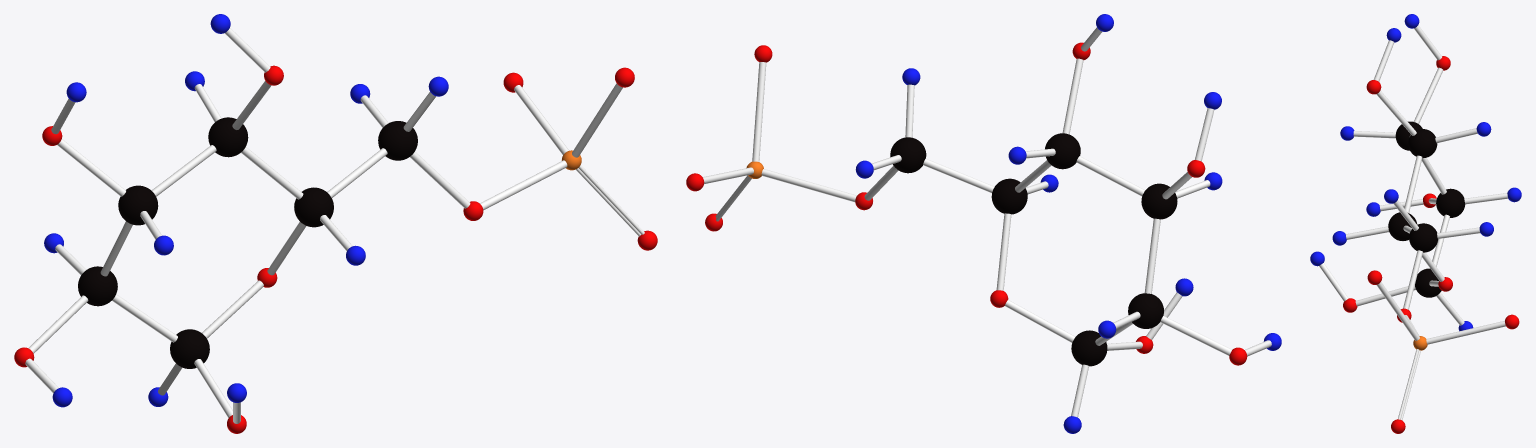
The model's file is glucose 6-phosphate_color.fbx.
3 views of the same model, side by side, from view 1: azimuth 30°, elevation 25°; view 2: azimuth 150°, elevation 25°; view 3: azimuth 270°, elevation 25° (orthographic). The views are drawn at different scales.
Visible parts, largest first — view 1: Atom6_Clone___4_, Atom6_Clone___5_, Atom6_Clone___2_, Atom6_Clone___3_, Atom6_Clone_, Atom6_Clone___1_, Bond1_Clone_, Bond1_Clone___2_, Bond1_Clone___7_, Bond1_Clone___1_, Bond1_Clone___4_, Bond1_Clone___16_ (+5 smaller); view 2: Atom6_Clone___2_, Atom6_Clone___5_, Atom6_Clone_, Atom6_Clone___4_, Atom6_Clone___3_, Atom6_Clone___1_, Bond1_Clone___2_, Bond1_Clone_, Bond1_Clone___3_, Bond1_Clone___4_, Bond1_Clone___5_, Bond1_Clone___19_ (+3 smaller); view 3: Atom6_Clone_, Atom6_Clone___5_, Atom6_Clone___3_, Atom6_Clone___4_, Bond1_Clone___1_, Atom6_Clone___2_, Bond1_Clone___2_, Bond1_Clone___13_, Bond1_Clone___7_, Bond1_Clone___17_, Atom6_Clone___1_, Bond1_Clone___5_ (+15 smaller).
Boxes of the visible parts, bbox=[...] form: Atom6_Clone___4_: bbox=[170, 329, 209, 368]; Atom6_Clone___5_: bbox=[378, 121, 417, 160]; Atom6_Clone___2_: bbox=[294, 187, 333, 227]; Atom6_Clone___3_: bbox=[78, 266, 117, 306]; Atom6_Clone_: bbox=[208, 117, 248, 157]; Atom6_Clone___1_: bbox=[118, 185, 158, 225]; Bond1_Clone_: bbox=[480, 160, 567, 210]; Bond1_Clone___2_: bbox=[572, 83, 622, 157]; Bond1_Clone___7_: bbox=[57, 139, 125, 196]; Bond1_Clone___1_: bbox=[514, 85, 568, 154]; Bond1_Clone___4_: bbox=[202, 280, 263, 338]; Bond1_Clone___16_: bbox=[151, 145, 216, 196]; Atom6_Clone___2_: bbox=[991, 178, 1027, 214]; Atom6_Clone___5_: bbox=[890, 137, 926, 173]; Atom6_Clone_: bbox=[1045, 133, 1080, 169]; Atom6_Clone___4_: bbox=[1071, 330, 1107, 366]; Atom6_Clone___3_: bbox=[1128, 293, 1163, 328]; Atom6_Clone___1_: bbox=[1141, 183, 1177, 219]; Bond1_Clone___2_: bbox=[752, 62, 766, 161]; Bond1_Clone_: bbox=[761, 169, 856, 202]; Bond1_Clone___3_: bbox=[996, 213, 1011, 290]; Bond1_Clone___4_: bbox=[1005, 300, 1075, 342]; Bond1_Clone___5_: bbox=[1062, 58, 1083, 134]; Bond1_Clone___19_: bbox=[1144, 218, 1160, 293]; Atom6_Clone_: bbox=[1408, 129, 1437, 158]; Atom6_Clone___5_: bbox=[1409, 223, 1437, 252]; Atom6_Clone___3_: bbox=[1436, 188, 1465, 217]; Atom6_Clone___4_: bbox=[1415, 268, 1441, 297]; Bond1_Clone___1_: bbox=[1426, 320, 1505, 344]; Atom6_Clone___2_: bbox=[1388, 212, 1417, 240]; Bond1_Clone___2_: bbox=[1376, 282, 1419, 340]; Bond1_Clone___13_: bbox=[1403, 250, 1422, 309]; Bond1_Clone___7_: bbox=[1413, 67, 1443, 123]; Bond1_Clone___17_: bbox=[1404, 155, 1422, 212]; Atom6_Clone___1_: bbox=[1395, 121, 1422, 150]; Bond1_Clone___5_: bbox=[1376, 90, 1416, 135].
Bounding box in the file's own units: 894 × 585 × 361.
